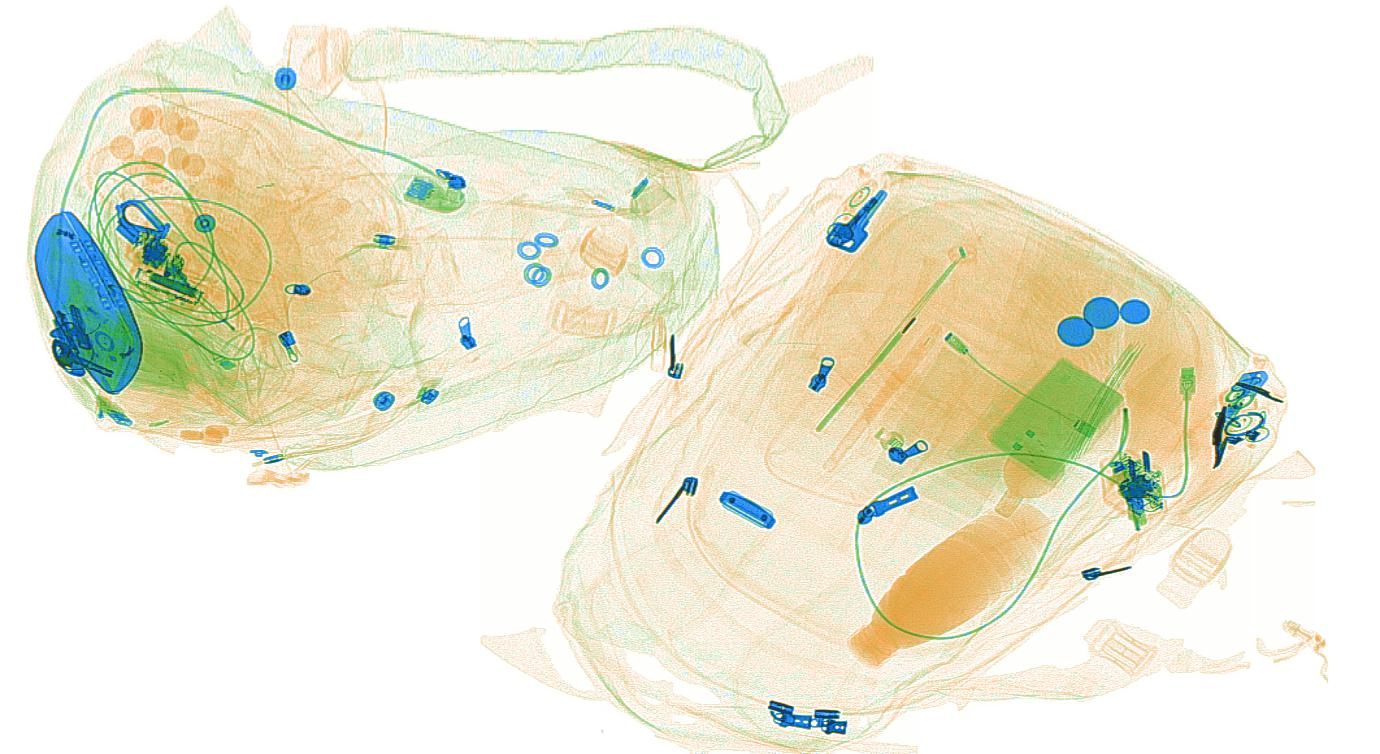USBFlashDisk: (1210, 365, 1274, 428)
